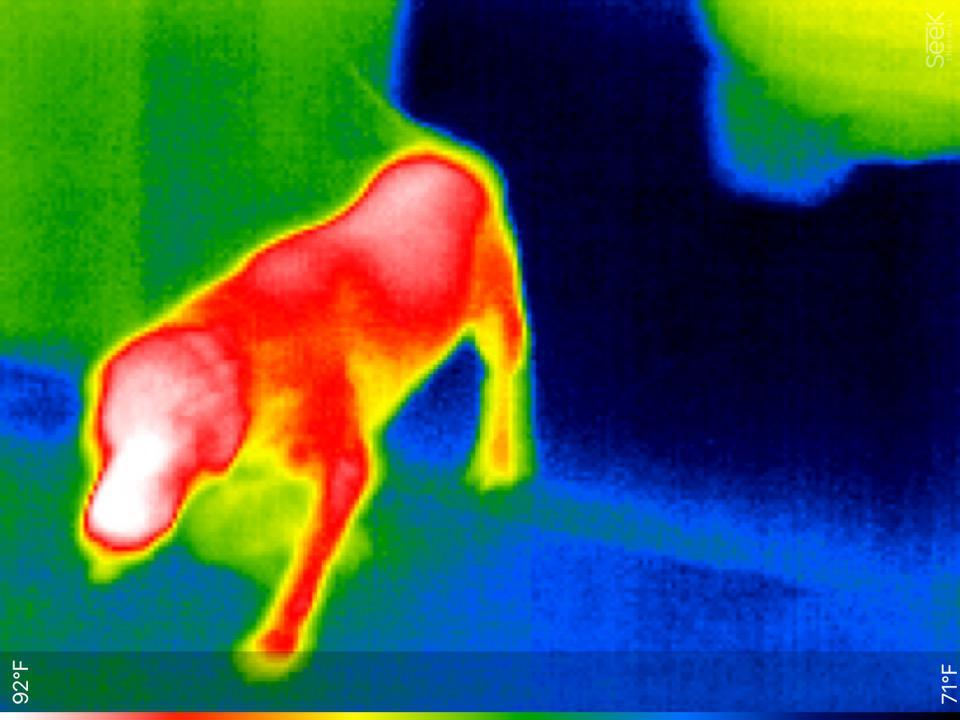dog: (58, 137, 538, 669)
